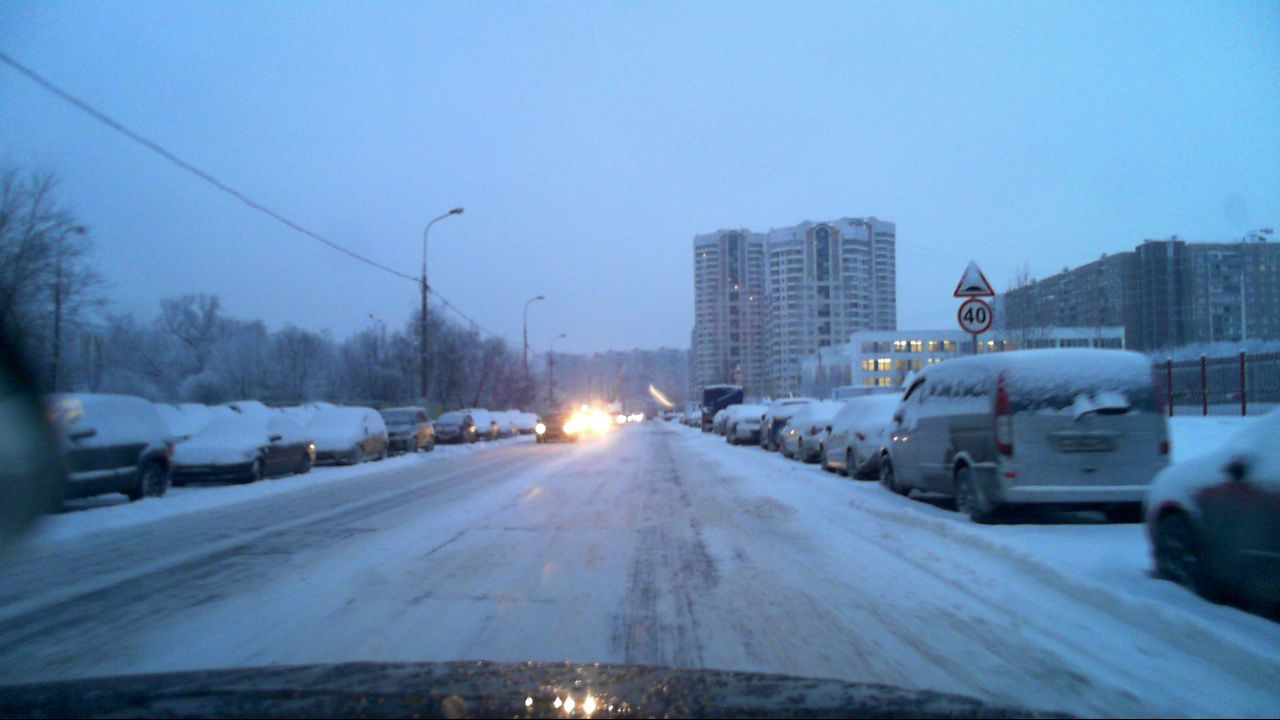speed_warning_40: (956, 297, 992, 333)
